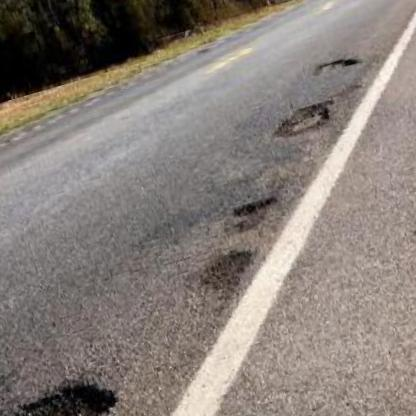pothole: (0, 370, 129, 416), (189, 242, 260, 302), (266, 97, 337, 146), (225, 189, 285, 233), (307, 48, 361, 80)
